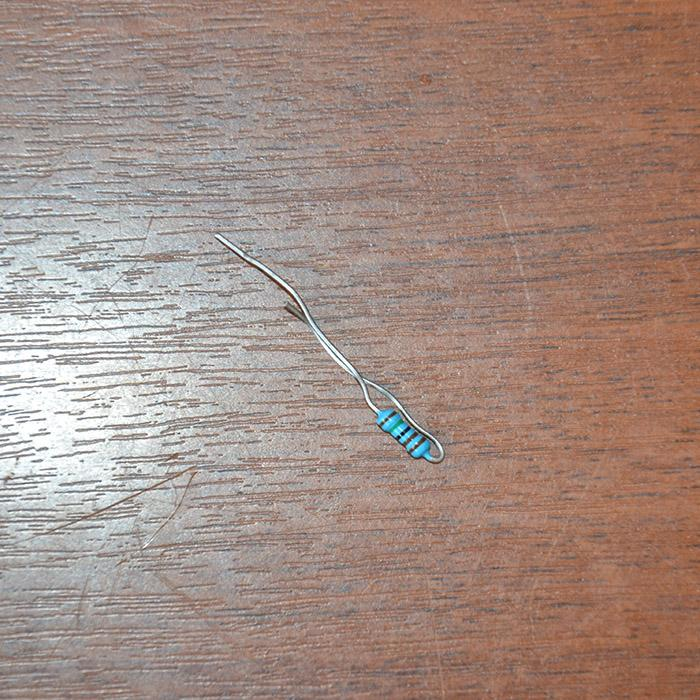resistor: (375, 406, 433, 460)
